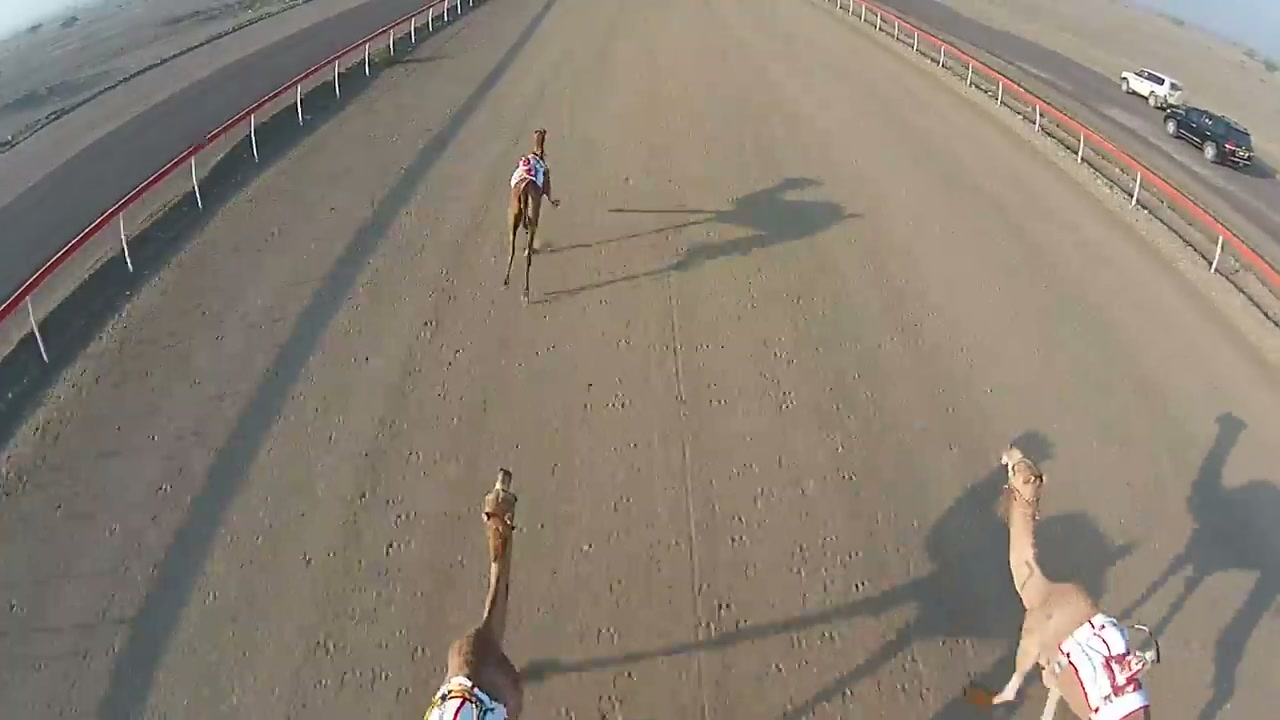animal_footprint: (306, 264, 553, 693), (697, 320, 884, 688), (559, 304, 688, 719)
